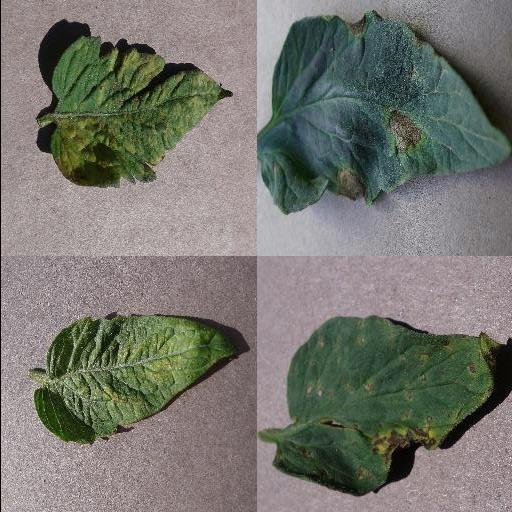Early Blight: (256, 10, 510, 214)
Leaf Mold: (50, 38, 234, 188)
Septoria: (271, 314, 501, 498)
Spider Mites: (32, 314, 238, 444)
